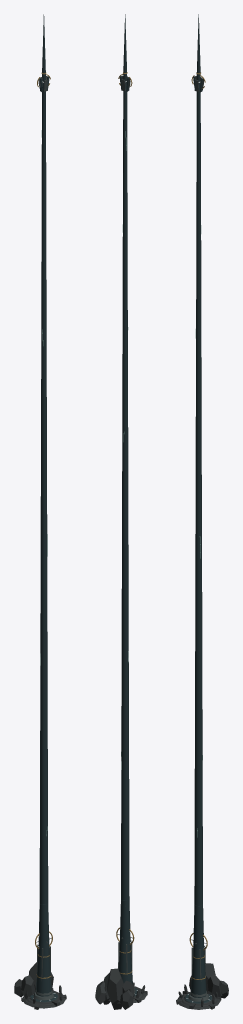
Rendered from ironwork-pillar.glb.
3 views of the same model, side by side, from view 1: azimuth 30°, elevation 25°; view 2: azimuth 150°, elevation 25°; view 3: azimuth 330°, elevation 25° (orthographic).
Visible parts, largest first — view 1: Pillar_Distant_Monolith, Pillar_Lower_Monolith, Pillar_Upper_Monolith, Pillar_Outcrop_1, Pillar_Sky_Needle; view 2: Pillar_Distant_Monolith, Pillar_Outcrop_2, Pillar_Lower_Monolith, Pillar_Upper_Monolith, Pillar_Outcrop_4, Pillar_Outcrop_5; view 3: Pillar_Distant_Monolith, Pillar_Lower_Monolith, Pillar_Upper_Monolith, Pillar_Outcrop_3.
Part boxes in pixels (x1,y1,x2,y2): Pillar_Distant_Monolith: (39,74,48,904); Pillar_Lower_Monolith: (36,942,51,996); Pillar_Upper_Monolith: (38,903,49,943); Pillar_Outcrop_1: (21,975,35,996); Pillar_Sky_Needle: (42,14,45,73); Pillar_Distant_Monolith: (121,74,129,900); Pillar_Outcrop_2: (106,968,123,1009); Pillar_Lower_Monolith: (118,937,132,984); Pillar_Upper_Monolith: (120,899,130,939); Pillar_Outcrop_4: (120,990,133,1009); Pillar_Outcrop_5: (95,981,105,1004); Pillar_Distant_Monolith: (194,74,202,905); Pillar_Lower_Monolith: (190,943,206,997); Pillar_Upper_Monolith: (193,904,203,944); Pillar_Outcrop_3: (207,974,222,997).
Size of the model in its own units: 25.4 by 628 by 29.46.
